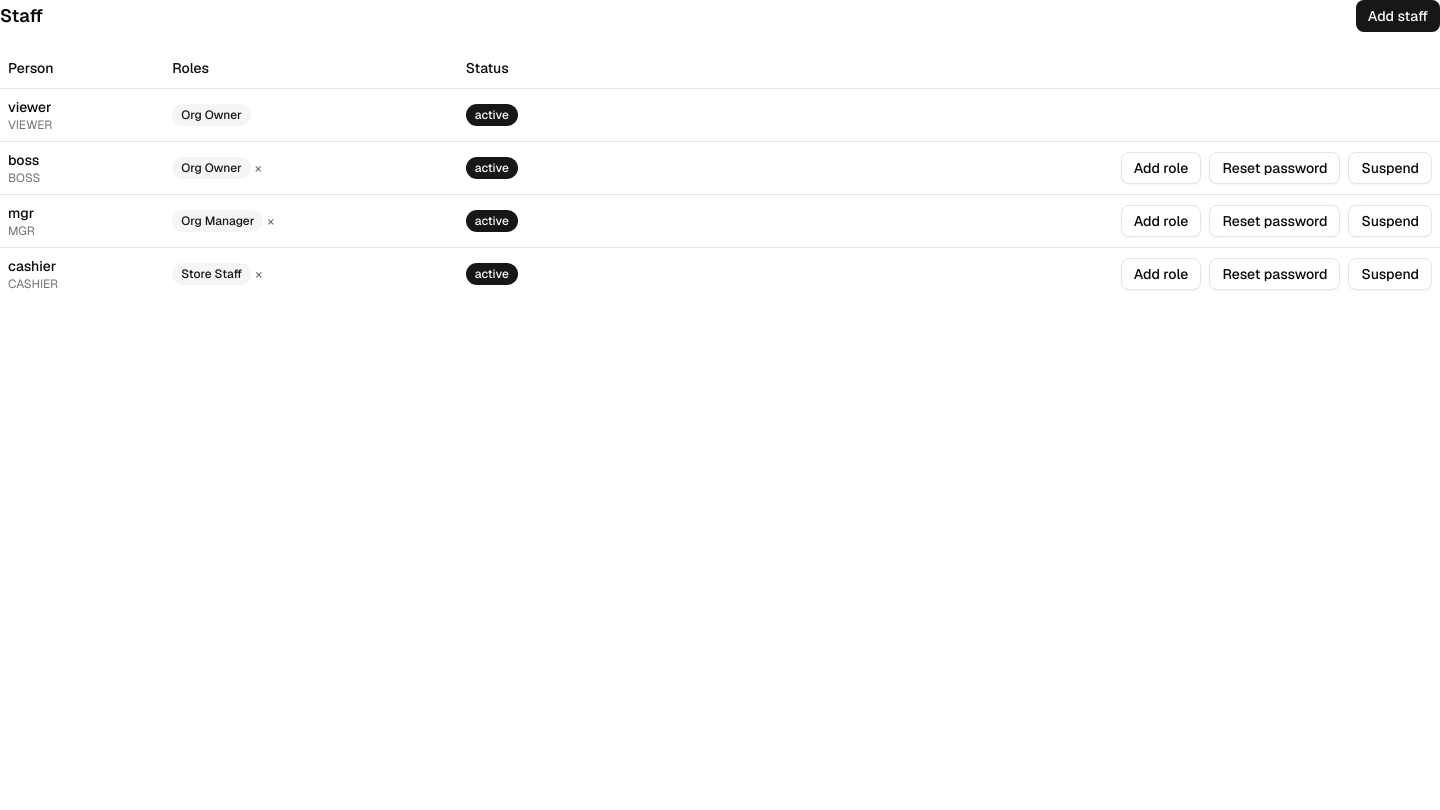
it: StaffManager › resets a password after confirmation and shows the new temporary password
Expected: the text "cashier" is shown, [8, 256, 56, 274]
Click the button "Reset password" in the row of "Store Staff": (1275, 274) [1209, 258, 1340, 290]
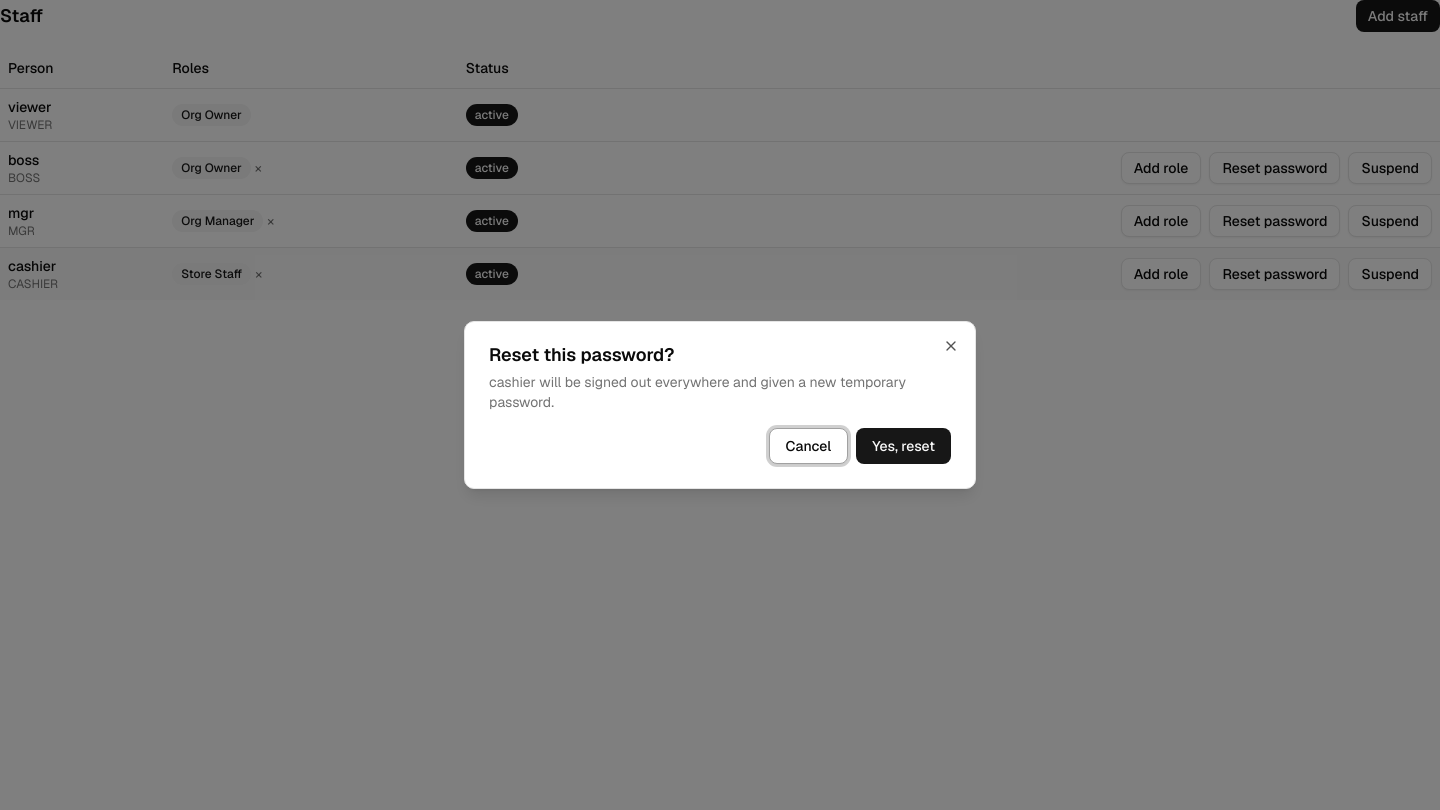
Click the button "Yes, reset": (904, 446) [856, 428, 951, 464]
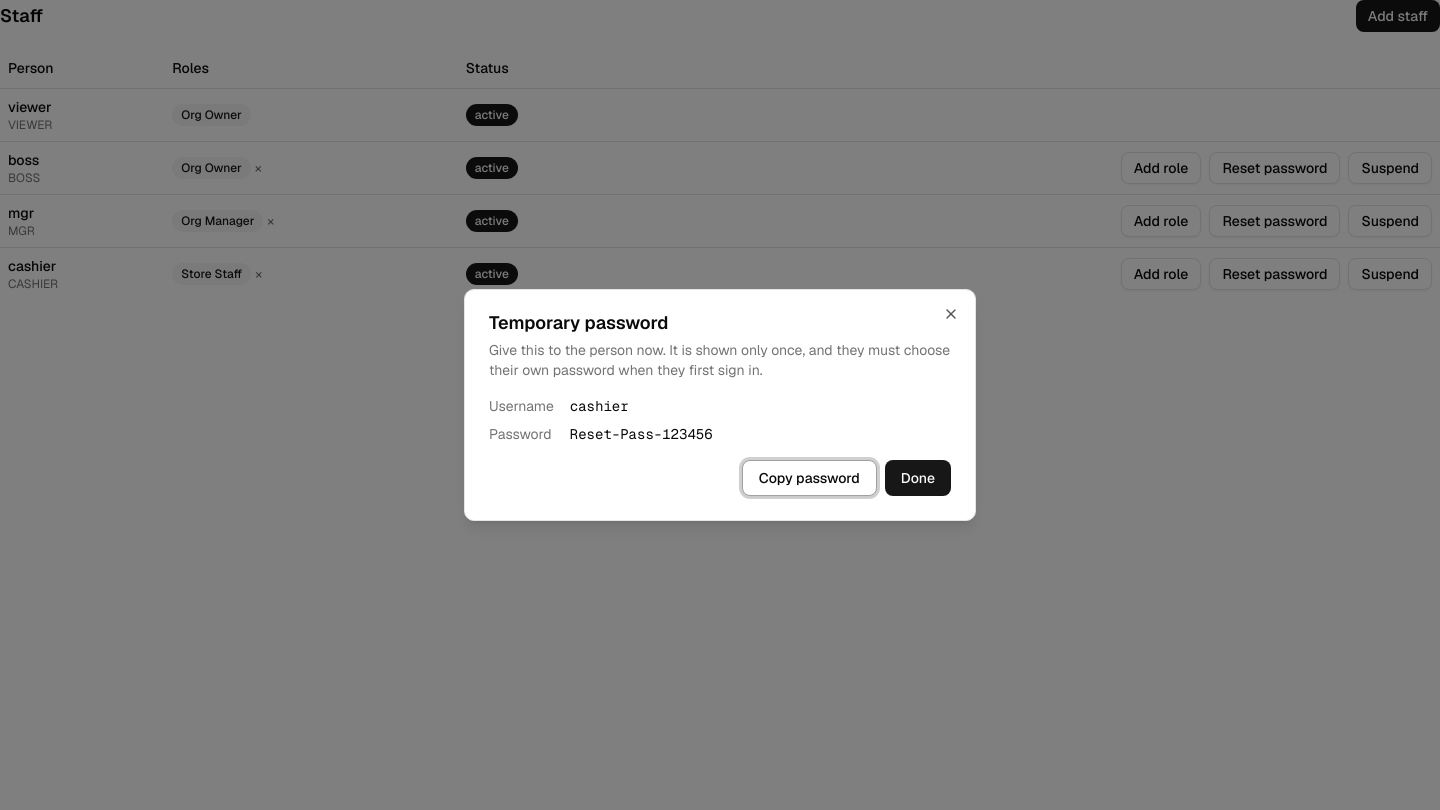
Expected: the text "Reset-Pass-123456" is shown, [570, 425, 713, 443]
